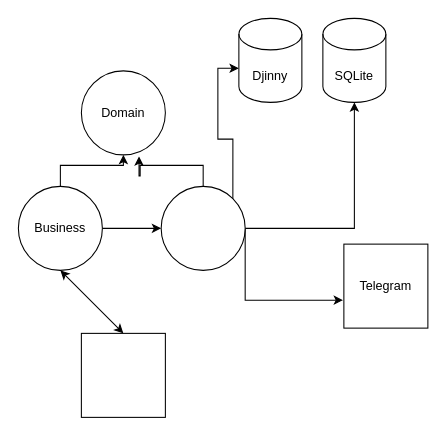
The diagram is 446 pixels wide and 436 high, and some of its shapes have lost their labels. The box of each missing label's shape, as (x1, y1, x2, y2) in pixels:
Console: (80, 332, 165, 417)
Infrastructure: (160, 185, 245, 270)
